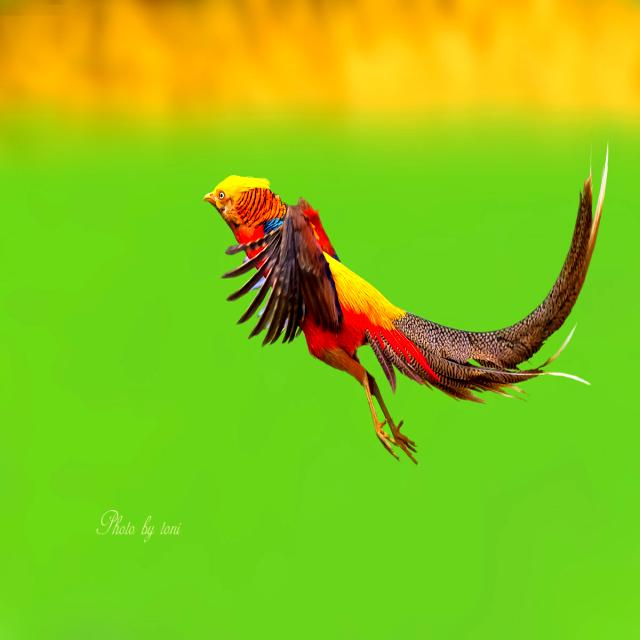Chrysolophus pictus feather: (365, 155, 607, 401)
